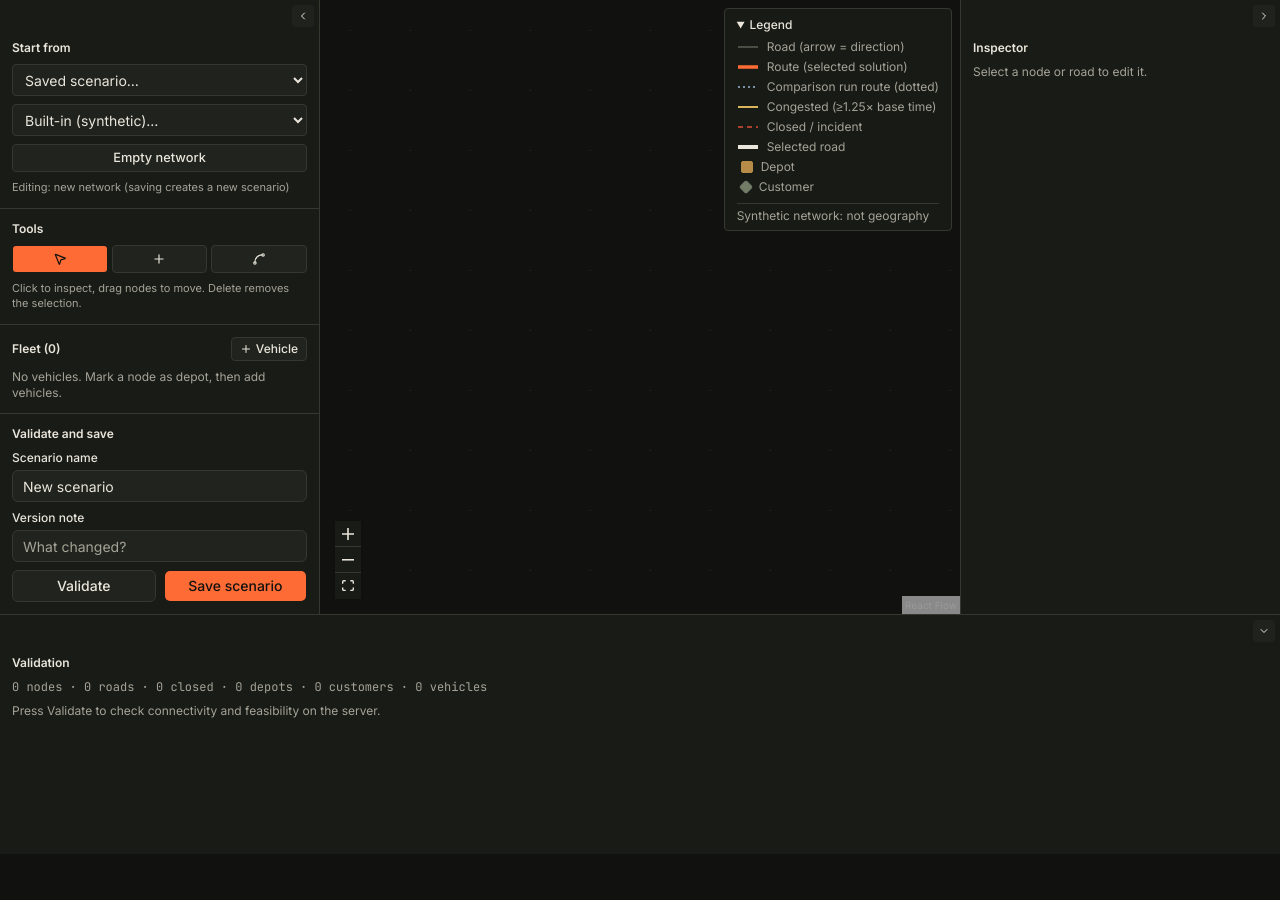
it: Scenario Studio › surfaces server-side save errors
Click the button "Save scenario". click: point(235, 586)
box: [164, 570, 307, 602]
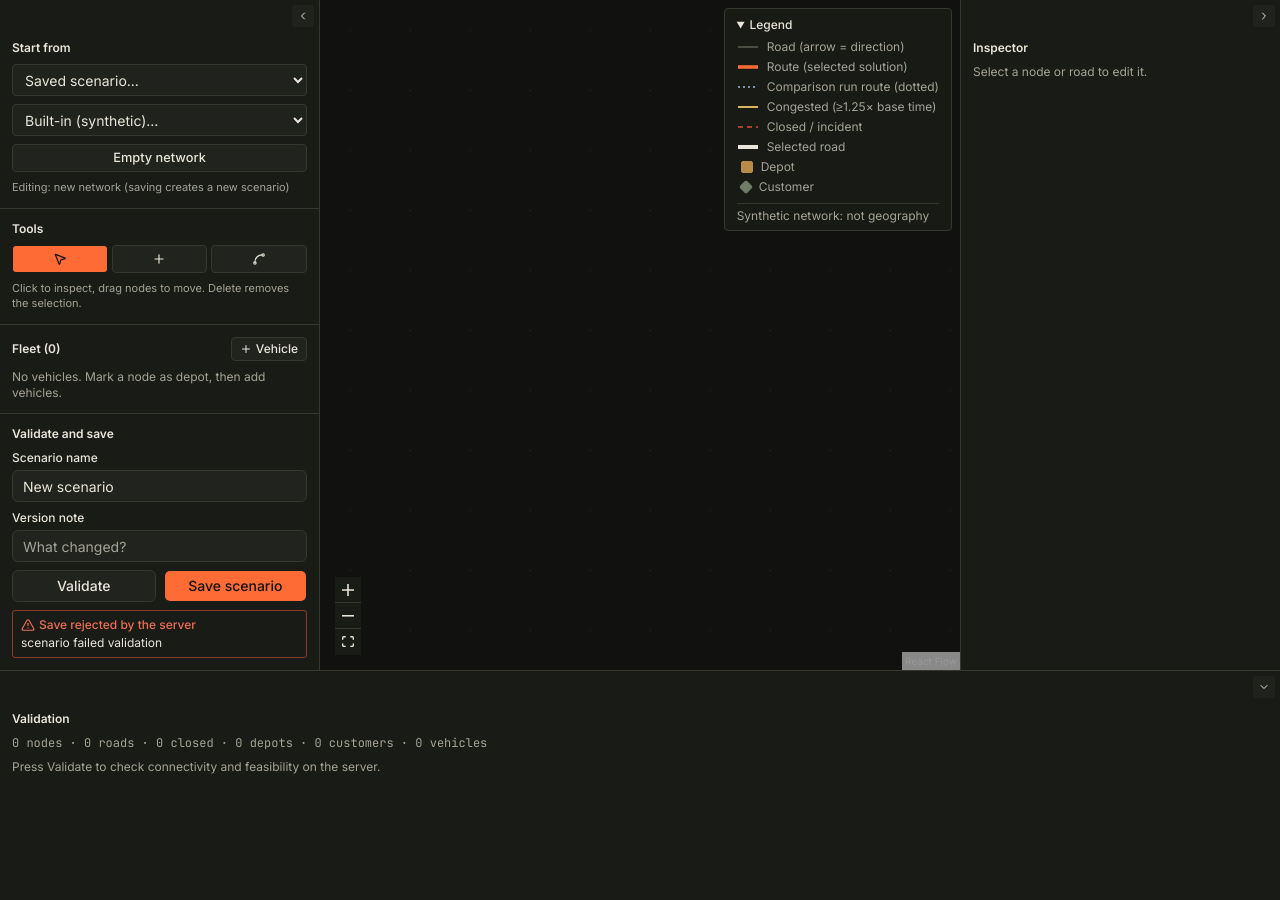
Expected: the message shows "scenario failed validation", [21, 635, 162, 650]
